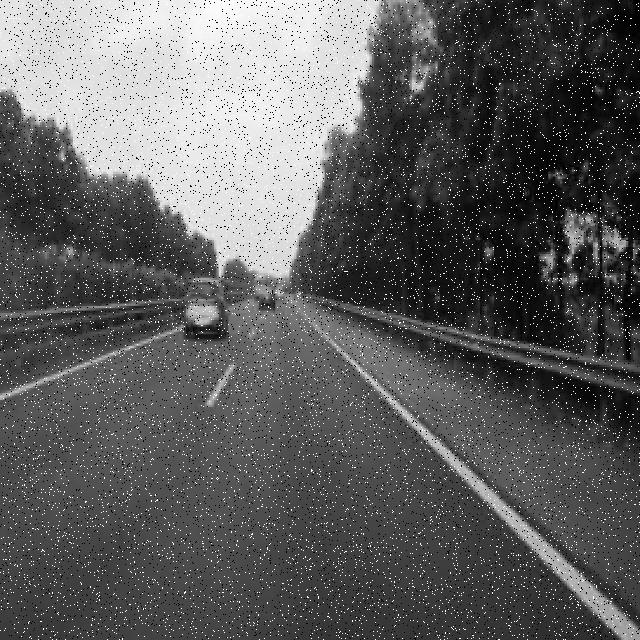clear-road: (0, 303, 619, 640)
